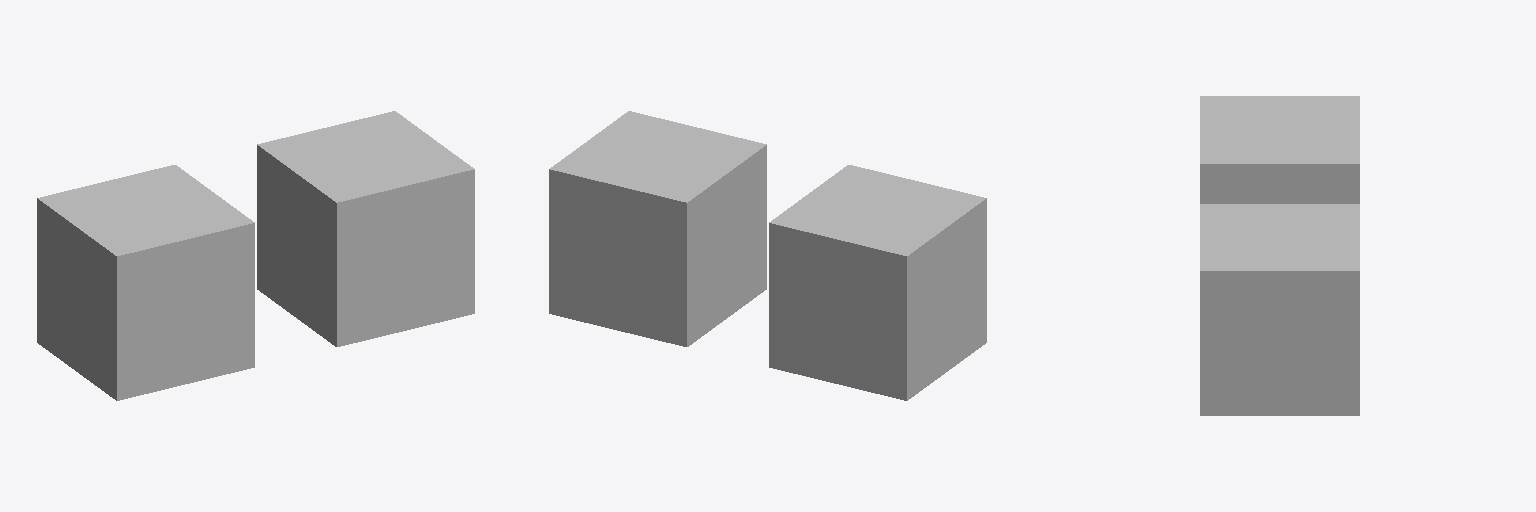
Rendered from two_cubes.obj.
The picture shows the model from 3 angles: view 1: azimuth 30°, elevation 25°; view 2: azimuth 150°, elevation 25°; view 3: azimuth 270°, elevation 25°; orthographic projection.
Parts seen in each view (by area): view 1: Cube, Cube.001; view 2: Cube, Cube.001; view 3: Cube.001, Cube.
Part boxes in pixels (x1,y1,x2,y2): Cube: (37,165,254,400); Cube.001: (257,111,474,346); Cube: (769,165,986,400); Cube.001: (549,111,766,346); Cube.001: (1200,204,1359,415); Cube: (1200,96,1359,203).
Bounding box in the file's own units: 5.18 × 2 × 2.